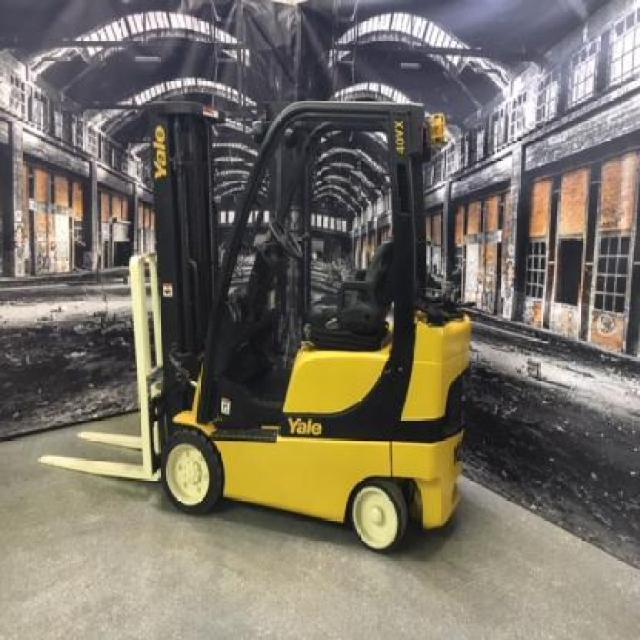forklift: (111, 85, 474, 558)
